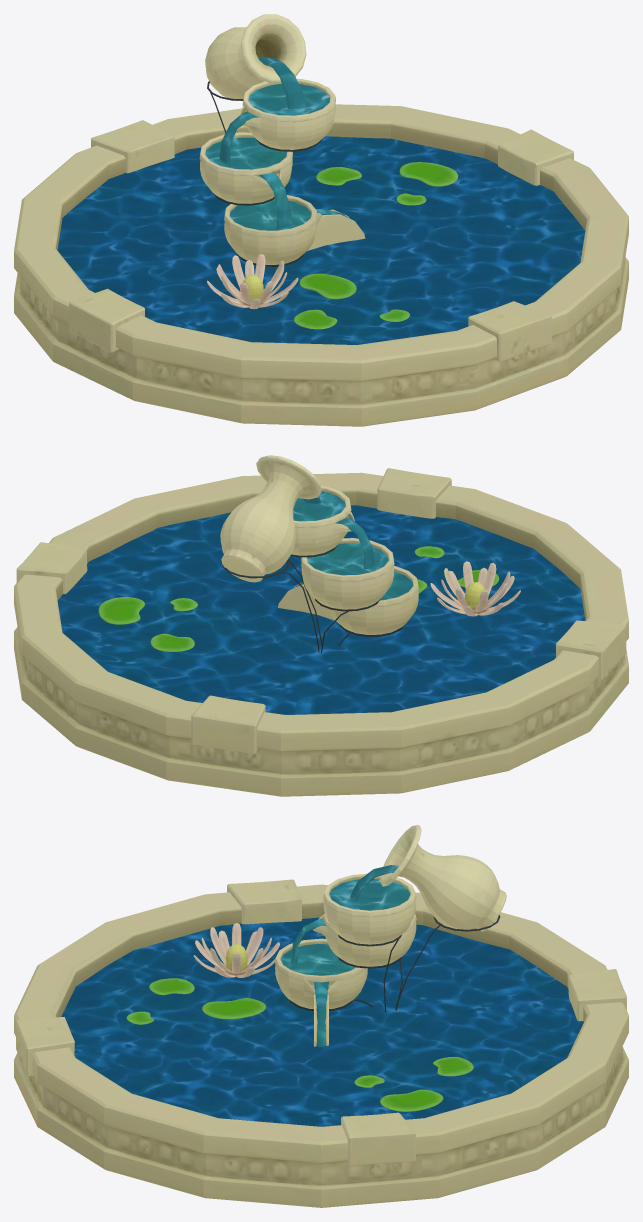
Rendered from fonte-jarros.glb.
3 renders of one model, top to bottom at view 1: azimuth 30°, elevation 25°; view 2: azimuth 150°, elevation 25°; view 3: azimuth 270°, elevation 25°, orthographic.
Parts seen in each view (by area): view 1: Flor_LP_Fountain_Material_0, AguaBase_LP_stylizedwater_0, AguaJarronGordo_1_LP_stylizedwater_0; view 2: Flor_LP_Fountain_Material_0, AguaBase_LP_stylizedwater_0, AguaJarronGordo_1_LP_stylizedwater_0; view 3: Flor_LP_Fountain_Material_0, AguaBase_LP_stylizedwater_0, AguaJarronGordo_1_LP_stylizedwater_0.
Boxes of the visible parts, bbox=[...] form: Flor_LP_Fountain_Material_0: bbox=[14, 14, 628, 426]; AguaBase_LP_stylizedwater_0: bbox=[57, 136, 585, 344]; AguaJarronGordo_1_LP_stylizedwater_0: bbox=[205, 57, 349, 230]; Flor_LP_Fountain_Material_0: bbox=[14, 455, 628, 796]; AguaBase_LP_stylizedwater_0: bbox=[57, 505, 585, 714]; AguaJarronGordo_1_LP_stylizedwater_0: bbox=[293, 491, 412, 600]; Flor_LP_Fountain_Material_0: bbox=[14, 825, 628, 1207]; AguaBase_LP_stylizedwater_0: bbox=[61, 917, 583, 1126]; AguaJarronGordo_1_LP_stylizedwater_0: bbox=[281, 865, 410, 1046].
Size of the model in its own units: 23.39 by 10.36 by 23.39.
2 materials, 2 textured.
